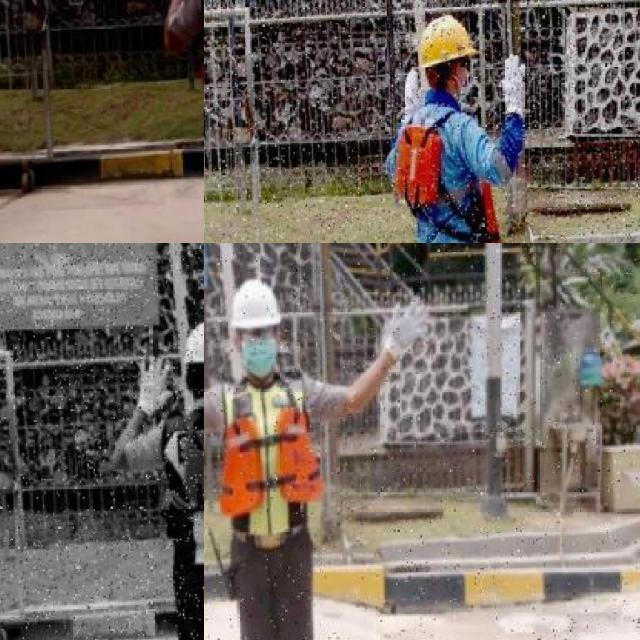apron: (379, 296, 436, 362), (134, 351, 172, 416), (498, 53, 528, 121), (398, 64, 426, 120)
